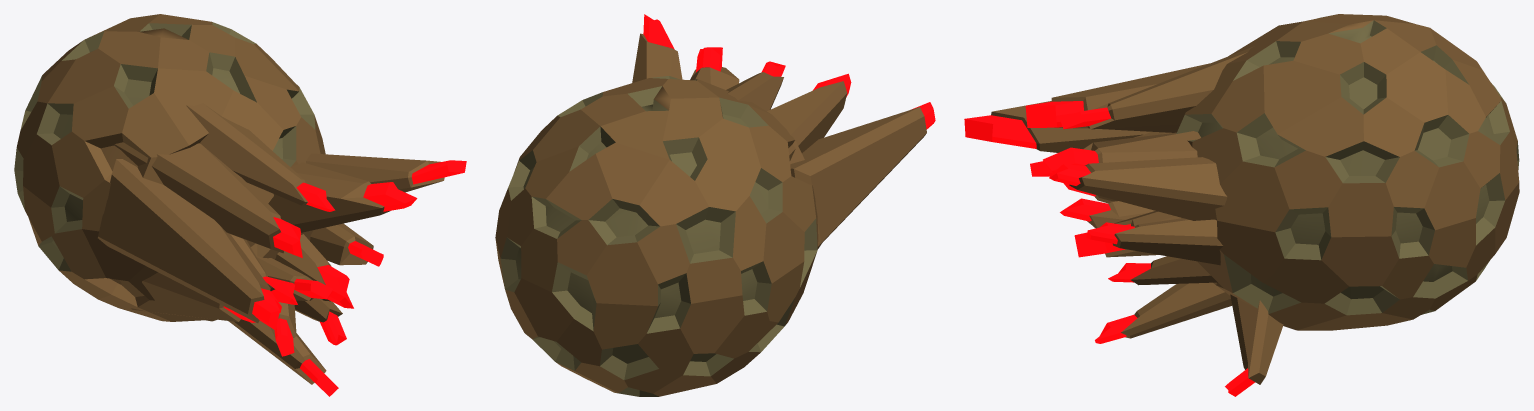
The model's file is Asteroid.fbx.
3 views of the same model, side by side, from view 1: azimuth 30°, elevation 25°; view 2: azimuth 150°, elevation 25°; view 3: azimuth 270°, elevation 25° (orthographic). The views are drawn at different scales.
Visible parts, largest first — view 1: Icosphere; view 2: Icosphere; view 3: Icosphere.
Part boxes in pixels (box(x1,y1,x2,y2)): Icosphere: box(14, 14, 466, 396); Icosphere: box(495, 14, 935, 396); Icosphere: box(964, 14, 1519, 396).
Bounding box in the file's own units: 210 × 211 × 340.
